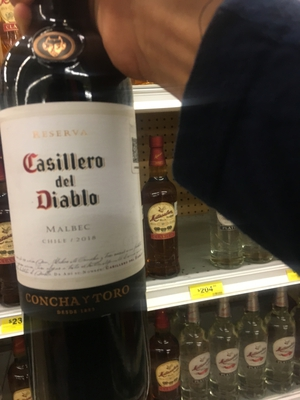casillero del diablo malbec: (1, 16, 167, 400)
